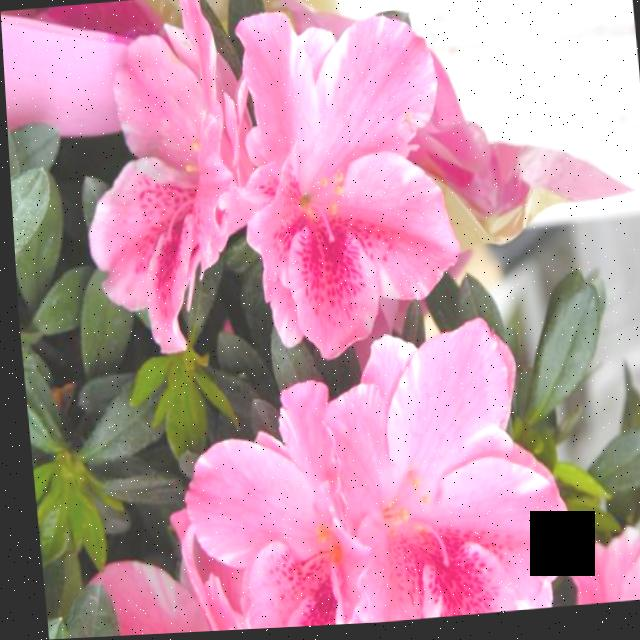azalea: (239, 0, 500, 379), (325, 335, 565, 627), (88, 21, 280, 346), (182, 379, 412, 633)
